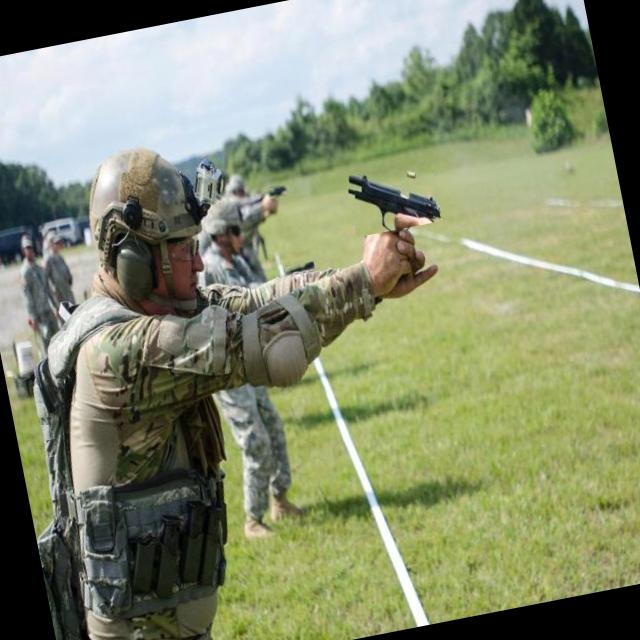Gun: (349, 176, 441, 231), (286, 262, 314, 275), (269, 187, 286, 196)
